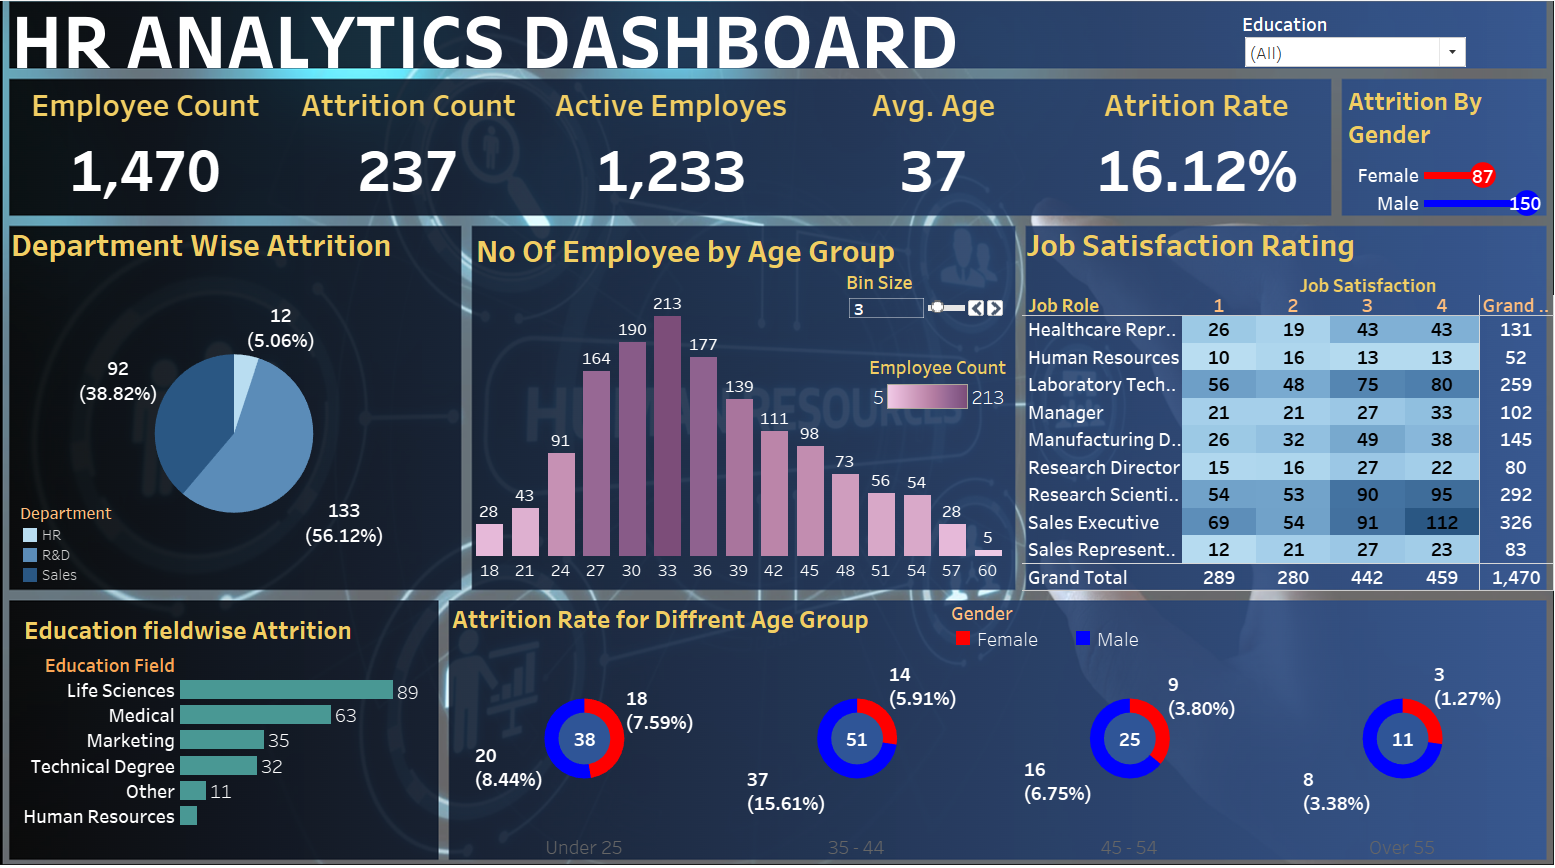

What the dashboard file says about the page in this screenshot:
{"tool":"tableau","page":{"name":"HR Analytics Dashboard","canvas":[1580,900],"ordinal":0},"visuals":[{"type":"image","param":"C:/Users/Samiksha/Downloads/Screenshot 2025-06-15 134213.png","box":[8,8,1564,884]},{"type":"text","box":[21,30,1349,59]},{"type":"filter","title":"Attrition Rate for Diffrent Age Group","param":"[federated.13ehsul0slv2wh14696f01onx1ht].[none:Education:nk]","box":[1256,32,227,56]},{"type":"worksheet","title":"Attriation by gender","mark":"Automatic","rows":["Gender"],"cols":["Calculation_752664108843950080","Calculation_752664108843950080"],"box":[1358,101,201,137]},{"type":"worksheet","title":"KPI","mark":"Automatic","box":[28,105,1314,129]},{"type":"worksheet","title":"Department Wise Attrition","mark":"Pie","box":[21,240,454,373]},{"type":"worksheet","title":"Job Satisfaction Rating","mark":"Square","rows":["Job Role"],"cols":["Job Satisfaction"],"box":[1036,240,532,372]},{"type":"worksheet","title":"No Of Employee by Age Group","mark":"Automatic","rows":["Employee Count"],"cols":["Age (bin)"],"box":[486,246,534,357]},{"type":"parameter","param":"[Parameters].[Parameter 1]","box":[860,290,160,75]},{"type":"legend","title":"No Of Employee by Age Group","param":"[federated.13ehsul0slv2wh14696f01onx1ht].[sum:Employee Count:qk]","box":[883,375,140,55]},{"type":"legend","title":"Department Wise Attrition","param":"[federated.13ehsul0slv2wh14696f01onx1ht].[none:Department:nk]","box":[34,523,158,107]},{"type":"worksheet","title":"Attrition Rate for Diffrent Age Group","mark":"Pie","rows":["Calculation_752664108889919492","Calculation_752664108889919492"],"cols":["CF_age band"],"box":[462,619,1091,262]},{"type":"legend","title":"Attrition Rate for Diffrent Age Group","param":"[federated.13ehsul0slv2wh14696f01onx1ht].[none:Gender:nk]","box":[965,621,317,55]},{"type":"worksheet","title":"Education fieldwise Attrition","mark":"Automatic","rows":["Education Field"],"cols":["Calculation_752664108843950080"],"box":[34,630,414,219]}]}

Visuals, with their boxes in screenshot pixels (x1, y1, x2, y2), scaled from the page's 1580x900 canvas onto the 1555x868 screenshot:
image: [8,8,1547,860]
text: [21,29,1348,86]
"Attrition Rate for Diffrent Age Group" filter: [1236,31,1460,85]
"Attriation by gender" worksheet: [1337,97,1534,230]
"KPI" worksheet: [28,101,1321,226]
"Department Wise Attrition" worksheet (Pie marks): [21,231,467,591]
"Job Satisfaction Rating" worksheet (Square marks): [1020,231,1543,590]
"No Of Employee by Age Group" worksheet: [478,237,1004,582]
parameter: [846,280,1004,352]
"No Of Employee by Age Group" legend: [869,362,1007,415]
"Department Wise Attrition" legend: [33,504,189,608]
"Attrition Rate for Diffrent Age Group" worksheet (Pie marks): [455,597,1528,850]
"Attrition Rate for Diffrent Age Group" legend: [950,599,1262,652]
"Education fieldwise Attrition" worksheet: [33,608,441,819]
